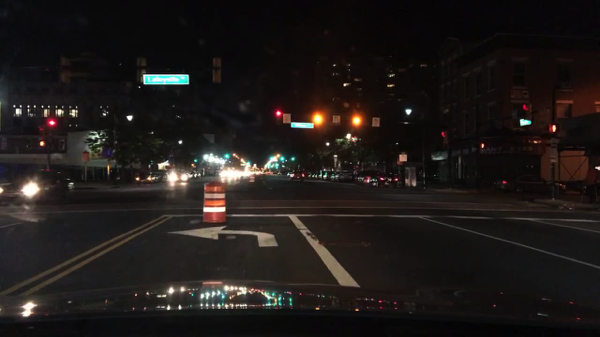car: (0, 168, 75, 208), (492, 173, 567, 197), (355, 171, 387, 186), (579, 180, 599, 199), (135, 172, 162, 185), (336, 172, 356, 184), (388, 171, 403, 185), (221, 170, 236, 182), (288, 171, 303, 182), (325, 172, 339, 183), (167, 172, 179, 184), (415, 172, 429, 182), (428, 173, 443, 181), (159, 173, 169, 183), (320, 172, 329, 181), (179, 171, 188, 180), (304, 172, 312, 180), (309, 173, 317, 180), (277, 169, 286, 175), (313, 174, 322, 180), (286, 171, 293, 178), (196, 172, 203, 179), (212, 171, 220, 177), (189, 172, 195, 180)
traffic light: (522, 103, 531, 124), (548, 124, 559, 135), (440, 131, 448, 146), (277, 110, 283, 125), (38, 126, 46, 137), (46, 119, 58, 125), (39, 140, 46, 149), (479, 142, 486, 149), (279, 154, 284, 163), (290, 154, 294, 162), (224, 153, 228, 160), (194, 157, 198, 164)
traffic sign: (143, 74, 190, 85), (290, 122, 314, 128), (213, 69, 221, 82), (212, 57, 222, 67), (282, 114, 292, 124), (331, 115, 341, 124), (372, 118, 380, 128), (399, 154, 408, 162), (395, 156, 403, 165), (332, 155, 337, 162)
